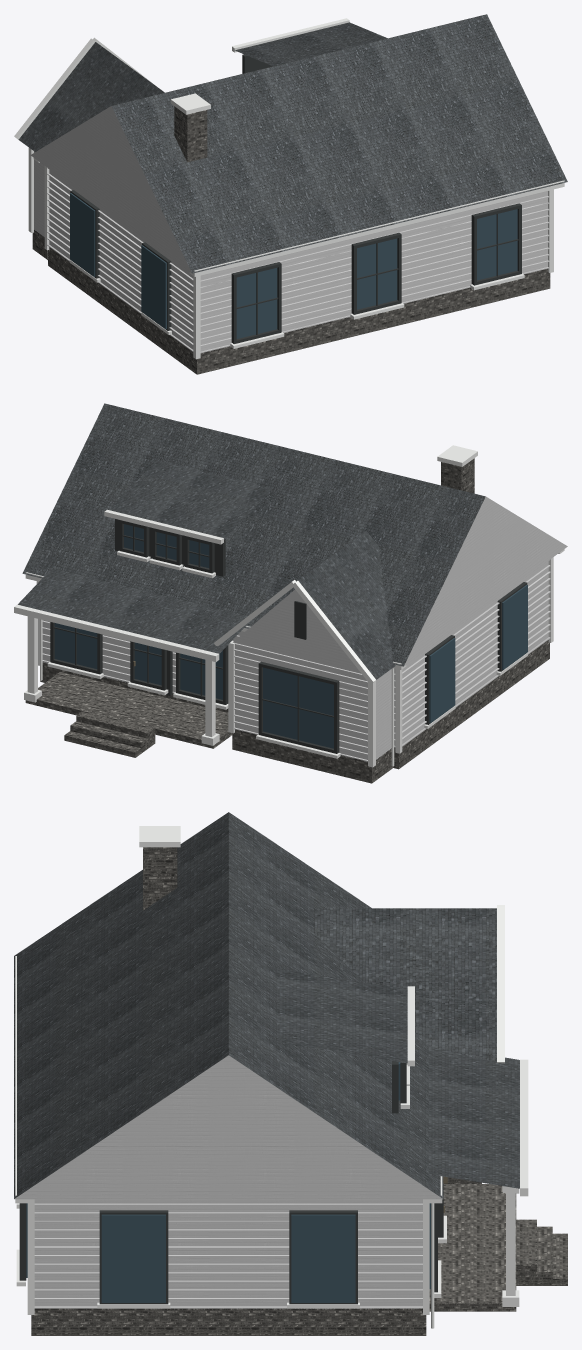
Rendered from building-type-d.glb.
3 renders of one model, top to bottom at view 1: azimuth 30°, elevation 25°; view 2: azimuth 150°, elevation 25°; view 3: azimuth 270°, elevation 25°, orthographic. The views are drawn at different scales.
Visible parts, largest first — view 1: colonial house d; view 2: colonial house d; view 3: colonial house d.
Boxes of the visible parts, bbox=[...] form: colonial house d: bbox=[14, 14, 567, 374]; colonial house d: bbox=[14, 403, 567, 783]; colonial house d: bbox=[14, 812, 567, 1335].
Bounding box in the file's own units: 13.4 × 7.73 × 12.9.
Materials: 7 (3 with a texture image).
